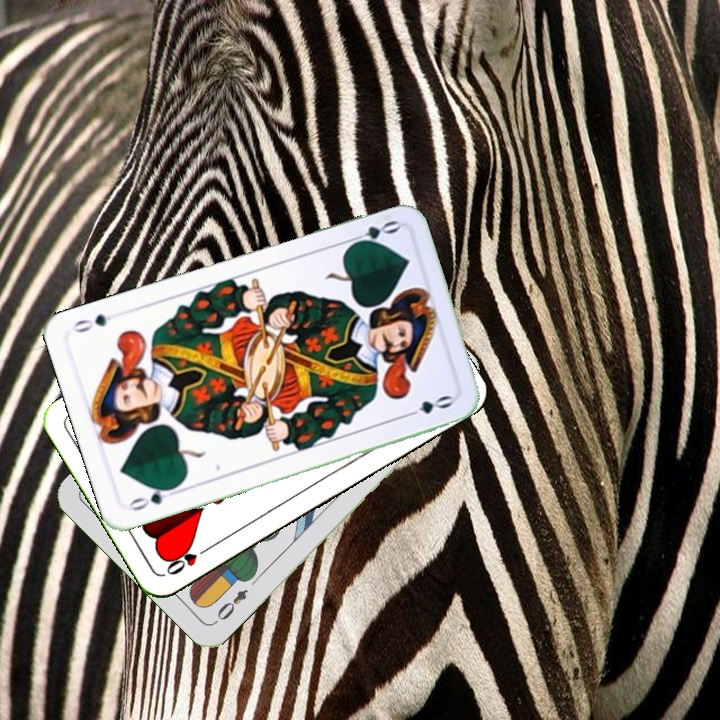EO: (212, 584, 251, 623)
GO: (343, 216, 402, 250), (124, 481, 182, 514)
HO: (162, 541, 215, 578)
